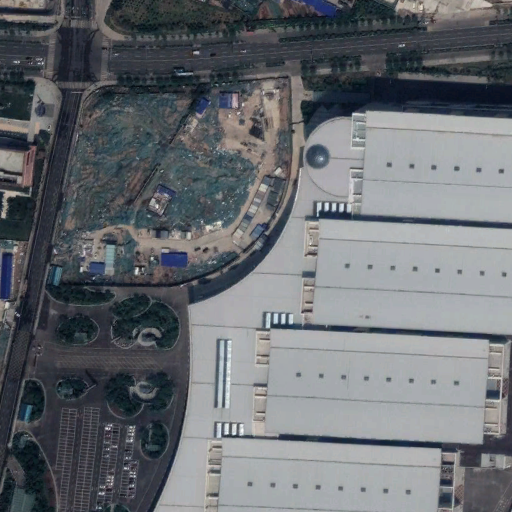cw: (56, 72, 294, 287)
